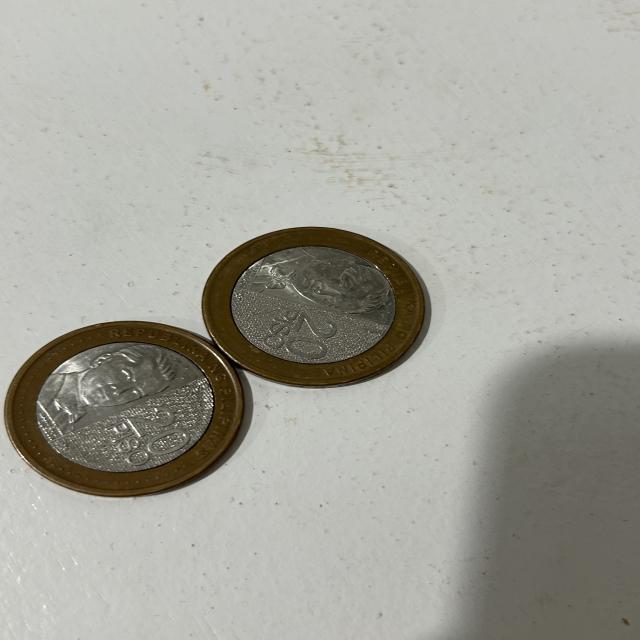20_New_Front: (100, 404, 196, 464), (258, 300, 342, 363)
